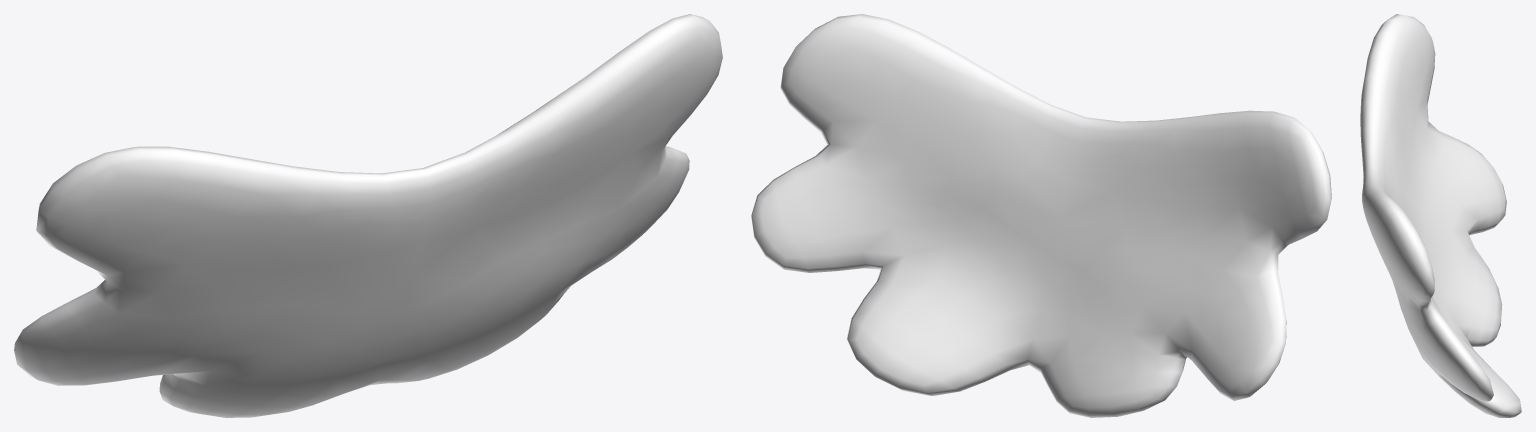
Rendered from Mouth_Marshmallow.fbx.
3 views of the same model, side by side, from view 1: azimuth 30°, elevation 25°; view 2: azimuth 150°, elevation 25°; view 3: azimuth 270°, elevation 25° (orthographic). The views are drawn at different scales.
Visible parts, largest first — view 1: Cylinder; view 2: Cylinder; view 3: Cylinder.
Boxes of the visible parts, bbox=[...] form: Cylinder: bbox=[14, 14, 722, 417]; Cylinder: bbox=[751, 14, 1331, 417]; Cylinder: bbox=[1360, 14, 1521, 417].
Bounding box in the file's own units: 20.36 × 10.59 × 5.98.
1 material, 1 textured.
